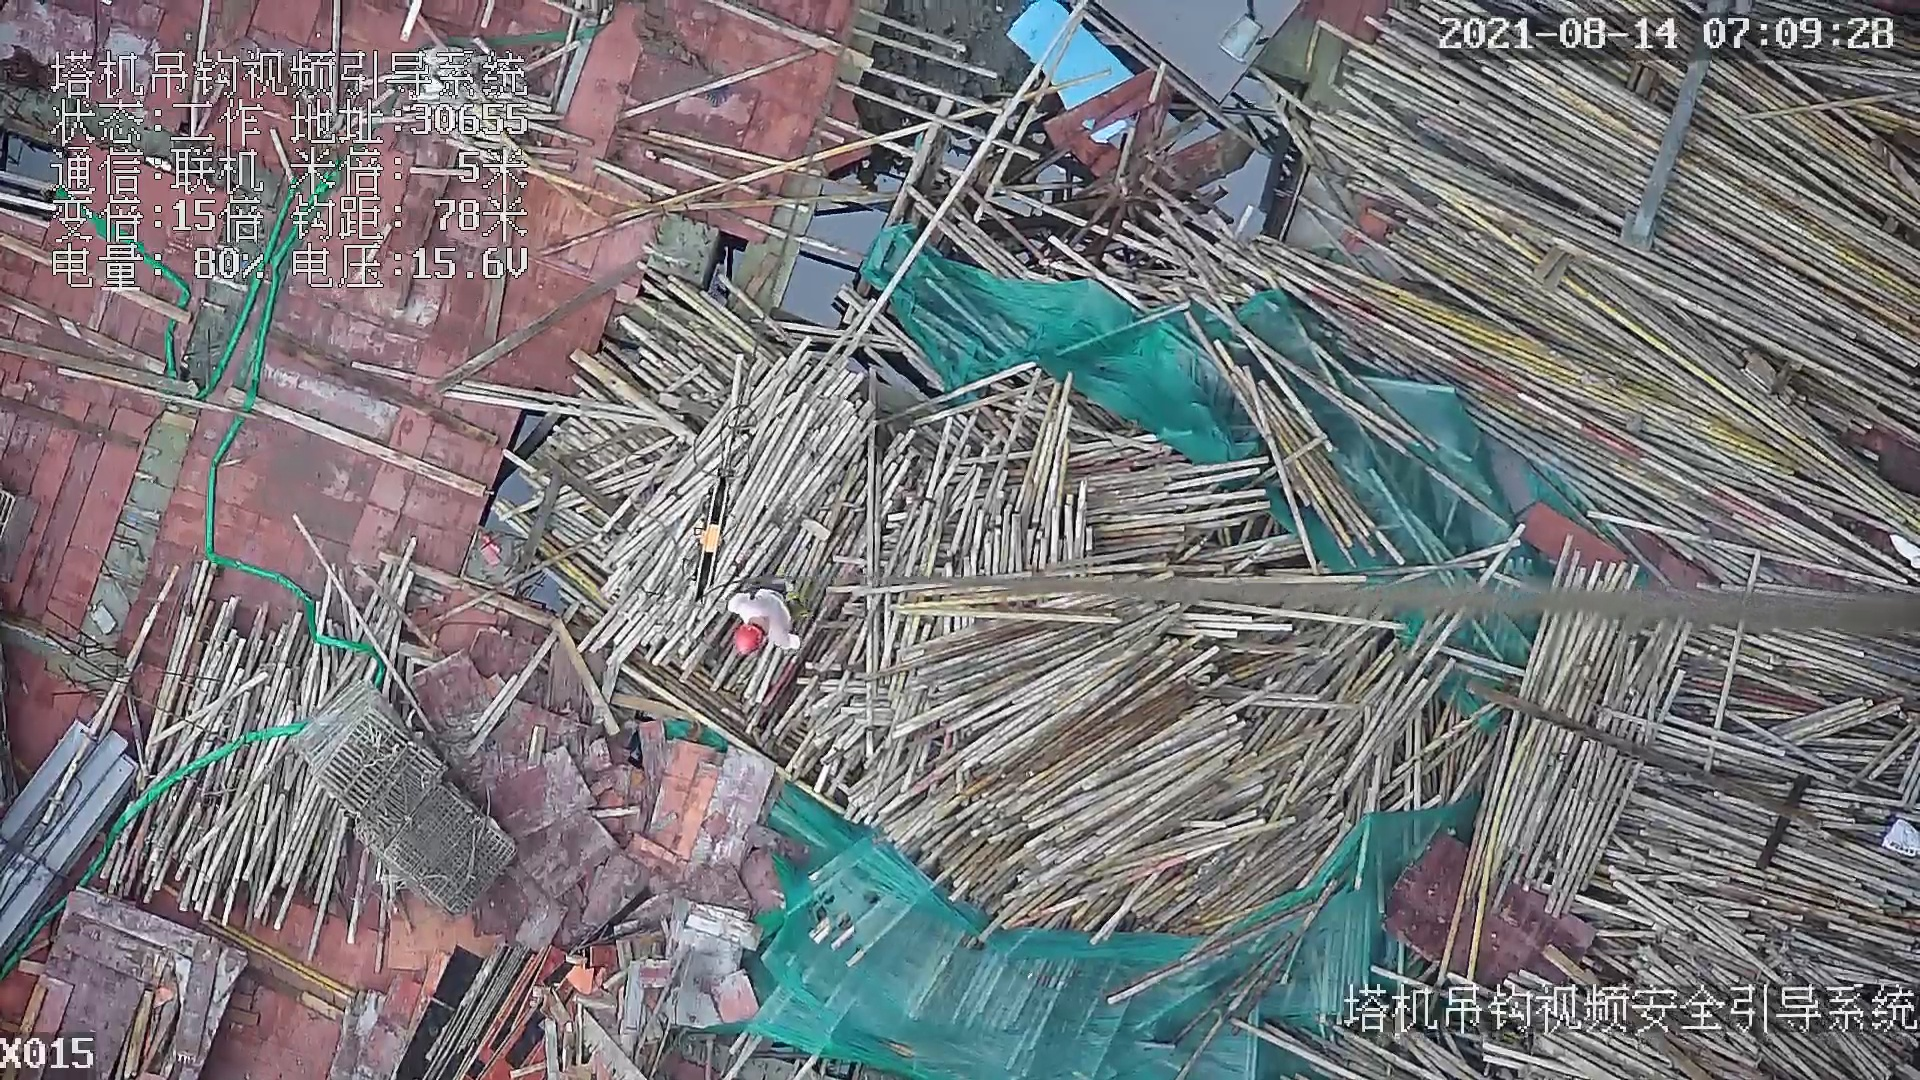helmet: (732, 622, 764, 657)
hook: (687, 468, 735, 609)
person: (732, 590, 806, 662)
